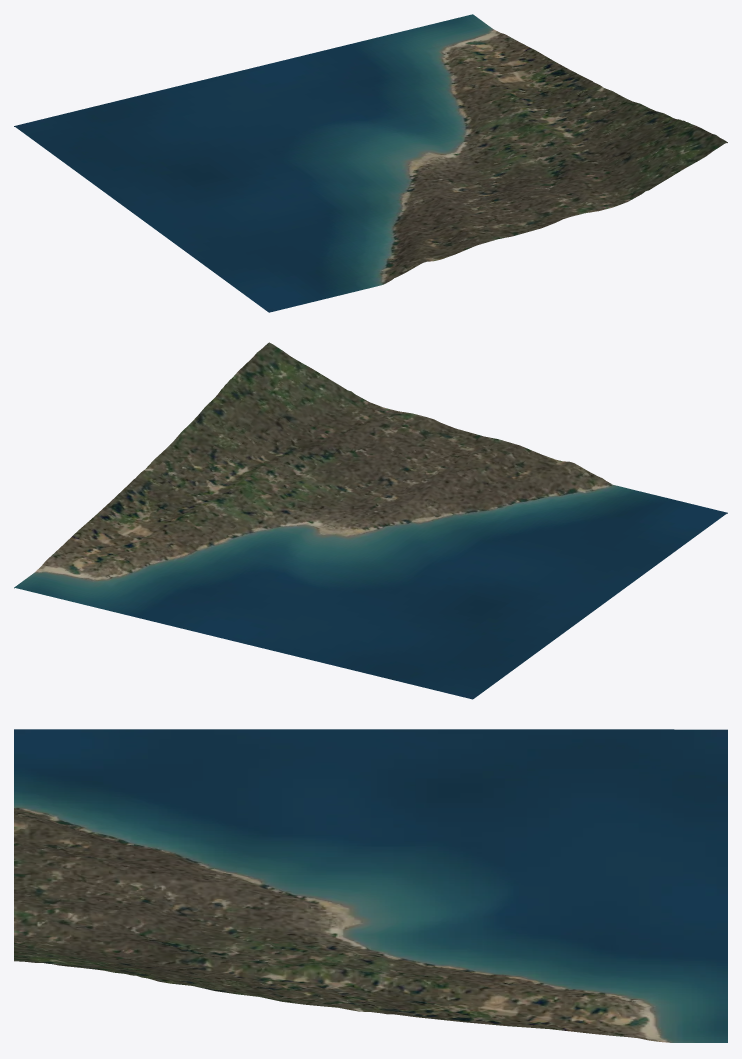
3 views of the same model, one above another, from view 1: azimuth 30°, elevation 25°; view 2: azimuth 150°, elevation 25°; view 3: azimuth 270°, elevation 25° (orthographic). The views are drawn at different scales.
Size of the model in its own units: 500 by 62 by 481.
Materials: 1 (1 with a texture image).
